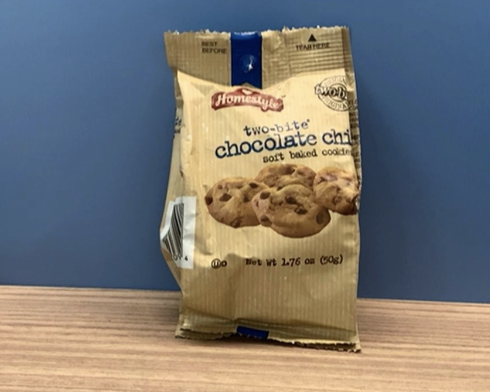cookies_1g-99g: (186, 79, 354, 279)
